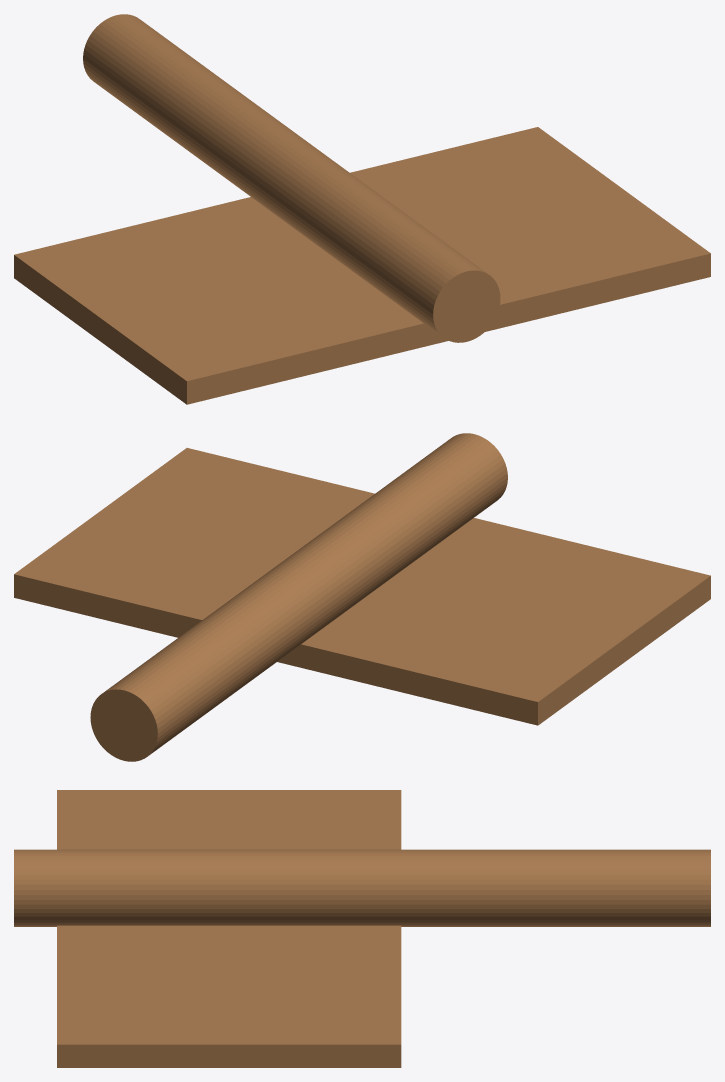
File: tinker.obj
3 views of the same model, one above another, from view 1: azimuth 30°, elevation 25°; view 2: azimuth 150°, elevation 25°; view 3: azimuth 270°, elevation 25° (orthographic).
Parts seen in each view (by area): view 1: obj_0; view 2: obj_0; view 3: obj_0.
Part boxes in pixels (x1,y1,x2,y2): obj_0: [14, 14, 710, 404]; obj_0: [14, 433, 710, 761]; obj_0: [14, 790, 710, 1067].
Bounding box in the file's own units: 70 × 12 × 81.
